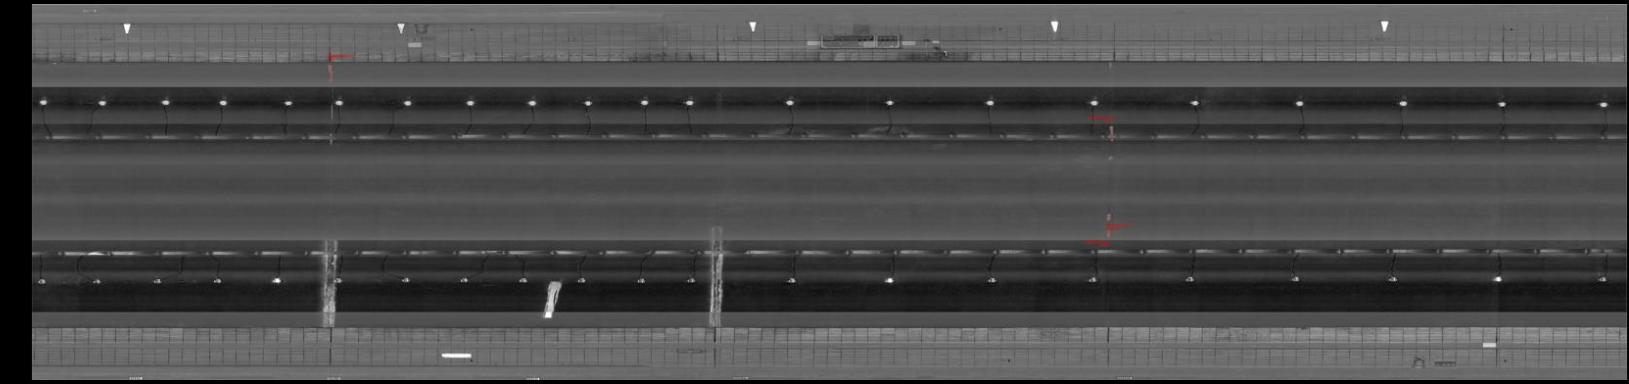light: (778, 95, 803, 109), (878, 272, 901, 286), (1592, 271, 1612, 286), (1178, 272, 1200, 286), (1081, 95, 1104, 109), (1382, 272, 1403, 286), (1489, 271, 1507, 286), (979, 95, 999, 109), (981, 273, 1002, 286), (878, 95, 898, 109), (454, 273, 474, 286), (1285, 272, 1304, 285), (1185, 95, 1204, 109), (1290, 97, 1309, 110), (1492, 98, 1514, 109), (1594, 98, 1613, 110), (523, 95, 542, 108), (35, 273, 51, 289), (87, 272, 104, 286), (267, 273, 285, 286), (1393, 97, 1412, 109), (94, 95, 112, 108), (398, 95, 417, 108), (1083, 275, 1102, 286), (782, 275, 802, 286), (208, 274, 225, 286), (214, 95, 232, 108), (513, 275, 532, 286), (156, 95, 175, 107), (580, 95, 596, 108), (35, 95, 52, 108), (636, 97, 653, 108), (572, 274, 588, 286), (683, 275, 699, 286), (634, 275, 650, 286), (149, 275, 165, 286), (462, 97, 479, 108), (680, 95, 698, 106), (398, 275, 413, 286), (279, 97, 295, 108), (331, 95, 348, 106), (332, 275, 347, 286)
